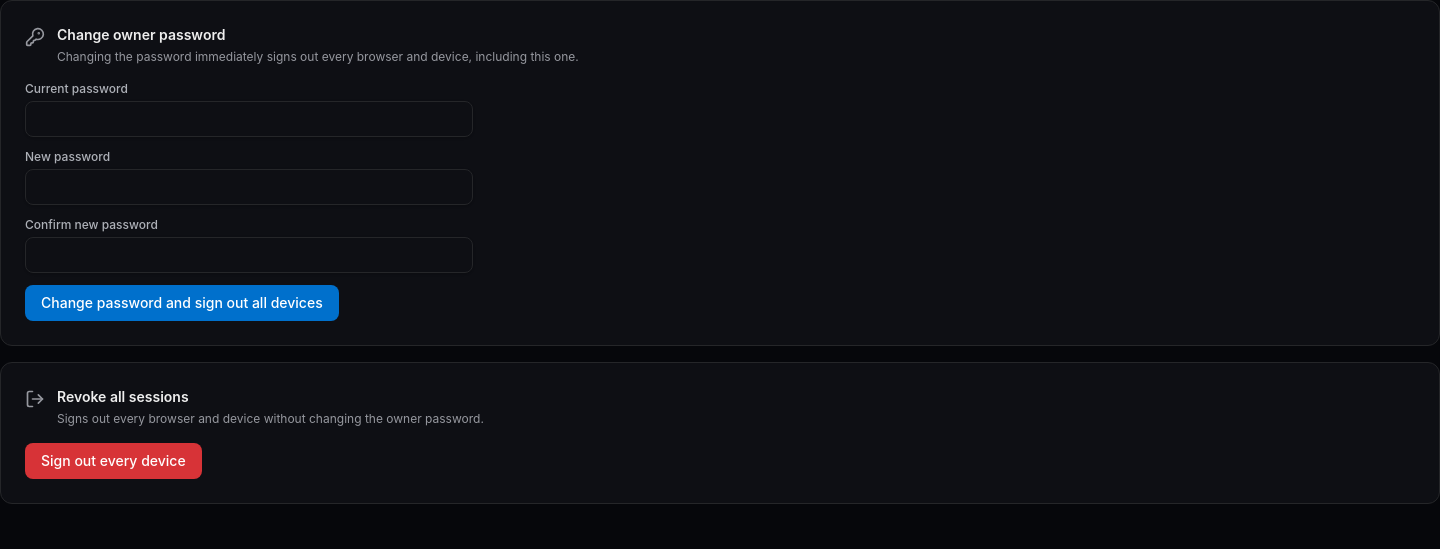
Test: SecuritySettings › does not submit mismatched passwords
In the password field labelled "Current password": (249, 119) left=25, top=101, right=473, bottom=137, type "current-owner-password"
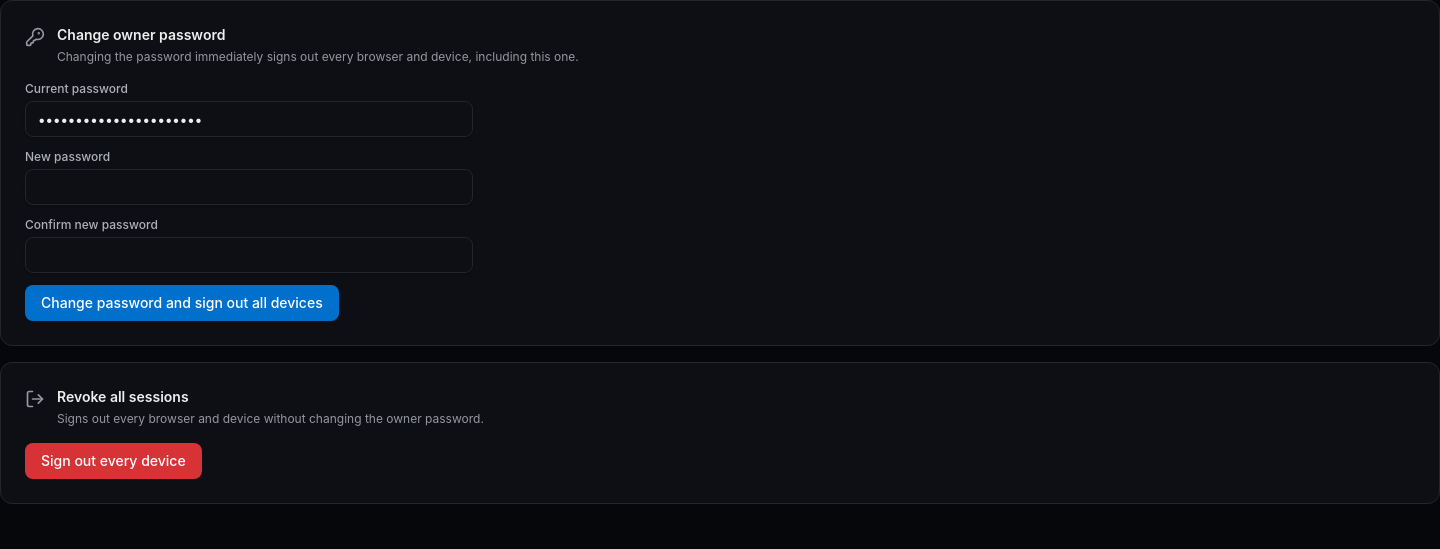
In the password field labelled "New password": (249, 187) left=25, top=169, right=473, bottom=205, type "a-new-owner-password"
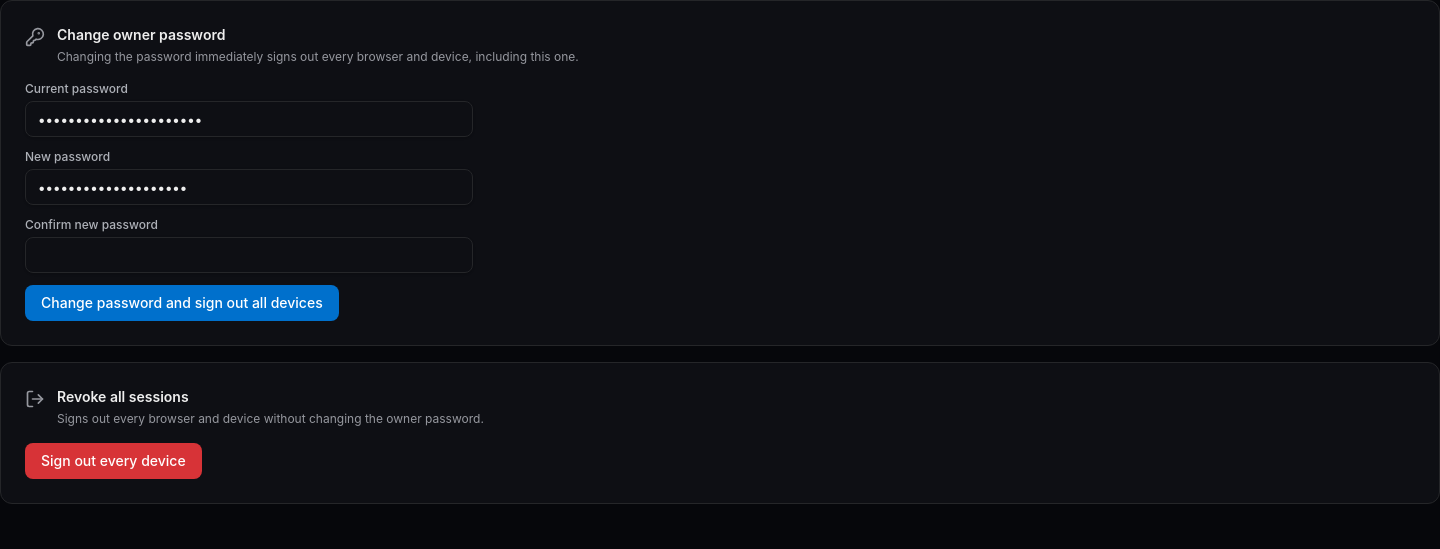
In the password field labelled "Confirm new password": (249, 255) left=25, top=237, right=473, bottom=273, type "a-different-password"
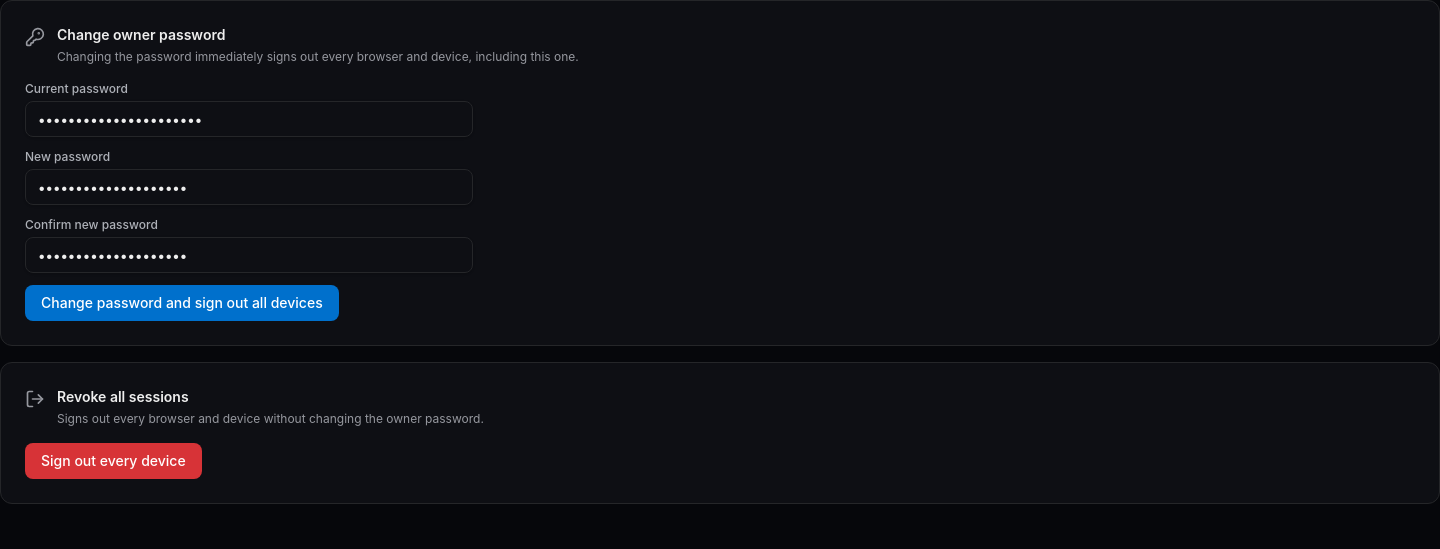
Click the button "Change password and sign out all devices": (182, 303) left=25, top=285, right=339, bottom=321
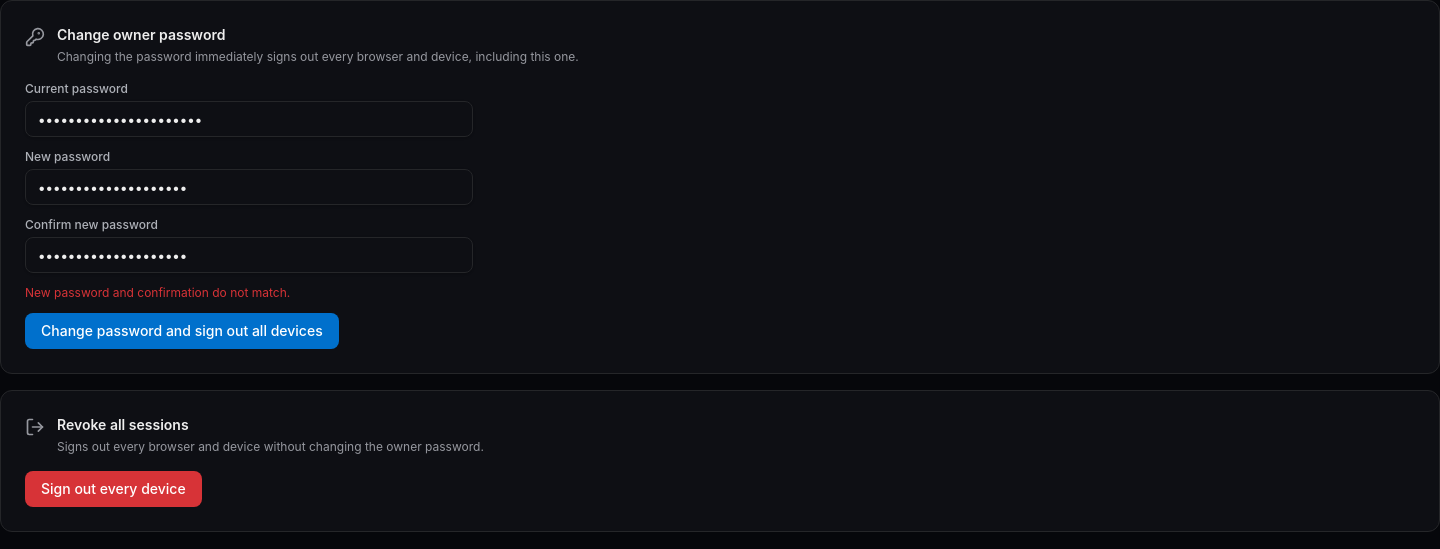
Expected: the message shows "do not match", left=25, top=285, right=290, bottom=300
